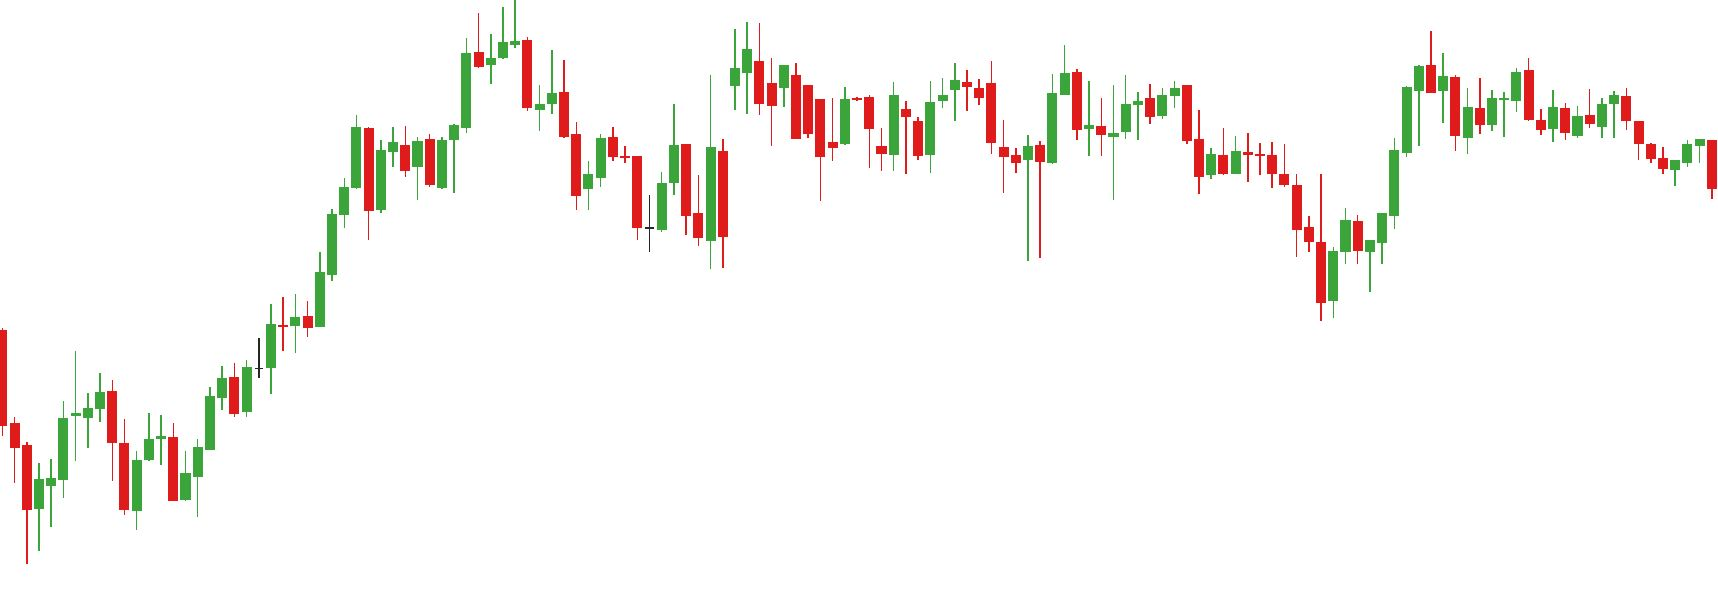sell: (1145, 31, 1439, 171)
